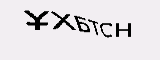Б: (27, 21, 40, 41)
К: (40, 20, 70, 47)
О: (92, 22, 118, 46)
Р: (72, 24, 91, 47)
Т: (117, 18, 134, 42)
